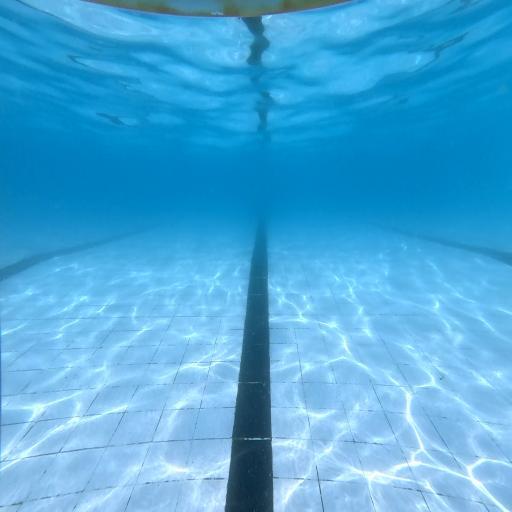gate: (82, 0, 362, 19)
